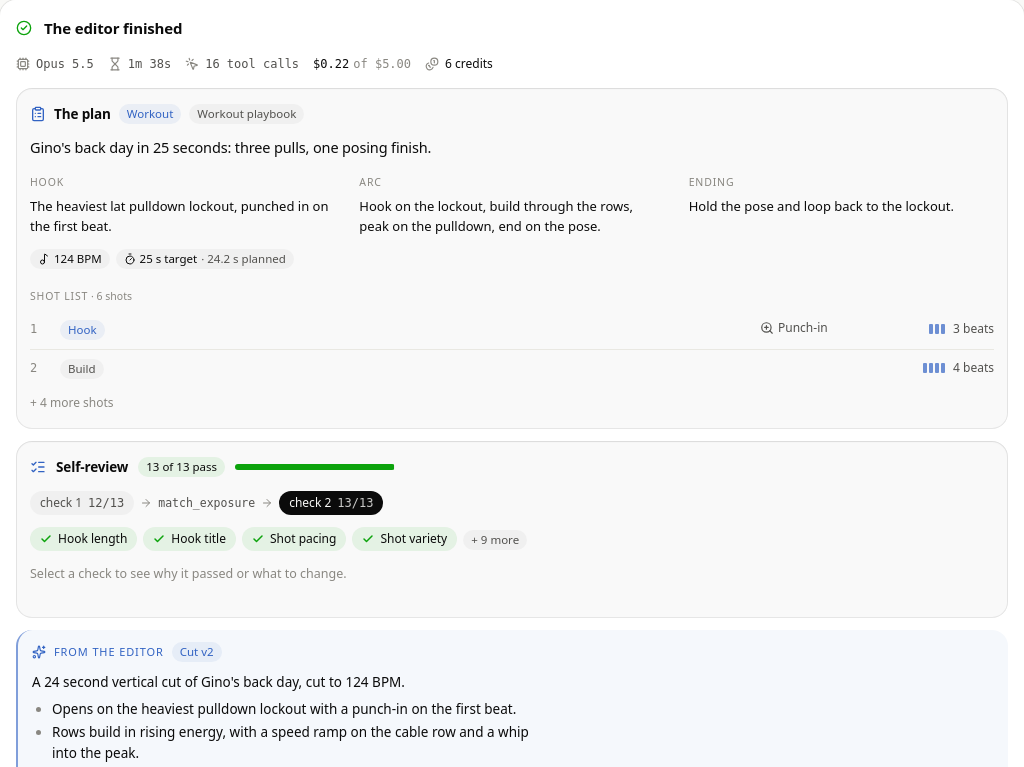
it: the run feed of a v2 run, from the summaries alone, shows the plan, the self-review in two rounds, the finish and what the run used
This screenshot has width=1024, height=767.
Expected: the text "Workout" is shown, [119,104,181,124]
Expected: the text "Workout playbook" is shown, [189,104,304,124]
Click the button with aria-label "Check 1: 12 of 13 pass".
click(82, 503)  # box [30,491,134,515]
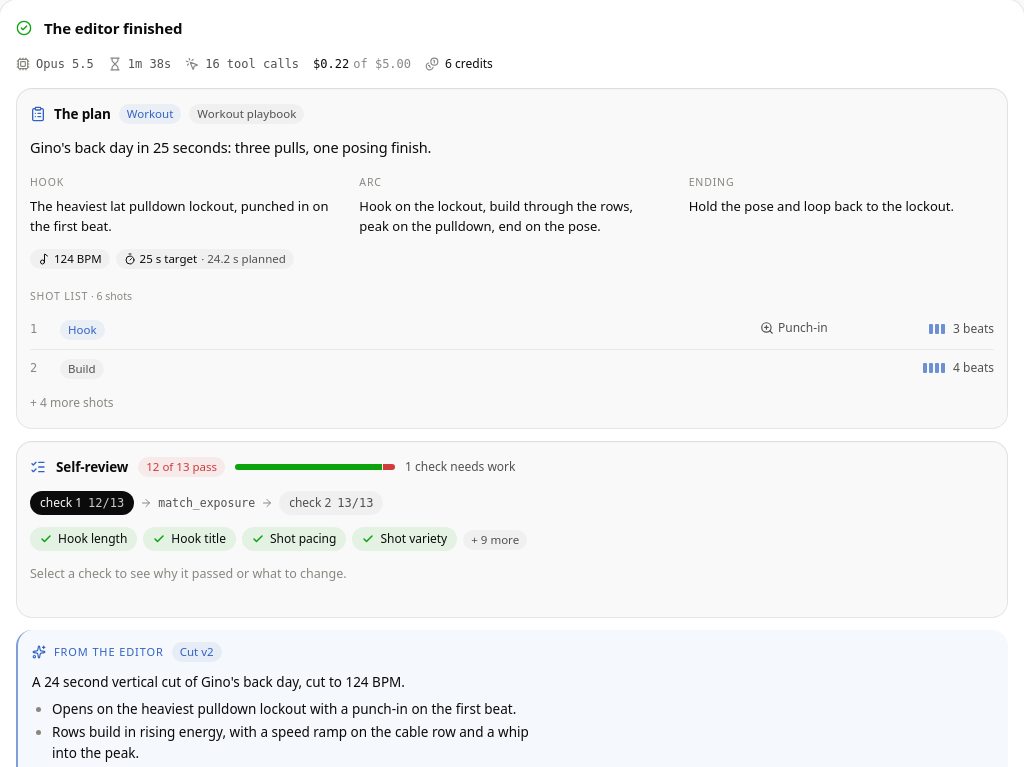
Expected: the element with test id "run-summary" shows "A 24 second vertical cut of Gino's back day", [32,673,405,691]
Expected: the text "12 of 13 pass" is shown, [138,457,225,477]
Expected: the text "1 check needs work" is shown, [405,455,516,479]
